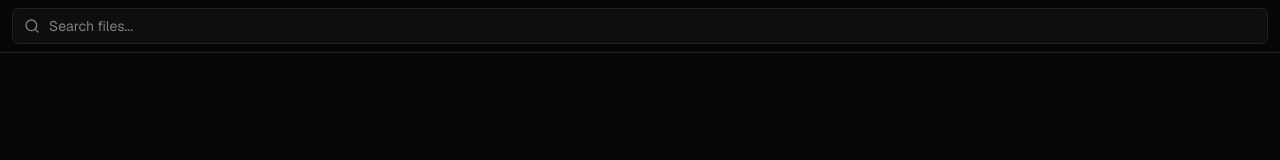
Scenario: FileNameSearch › Search results with fuzzy matching › should show "no results" when search returns empty
Type "nonexistent" into the field with placeholder "Search files..." at (640, 26), box [12, 8, 1268, 44]
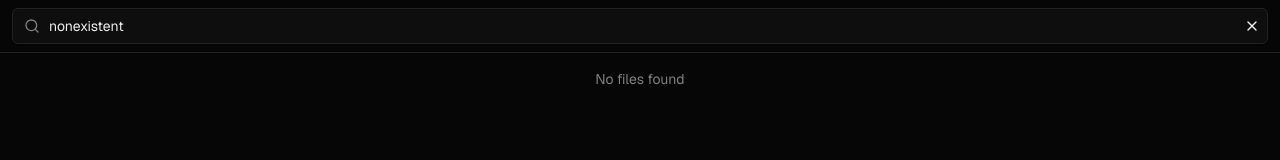
Expected: the text "No files found" is shown, [595, 70, 685, 88]
